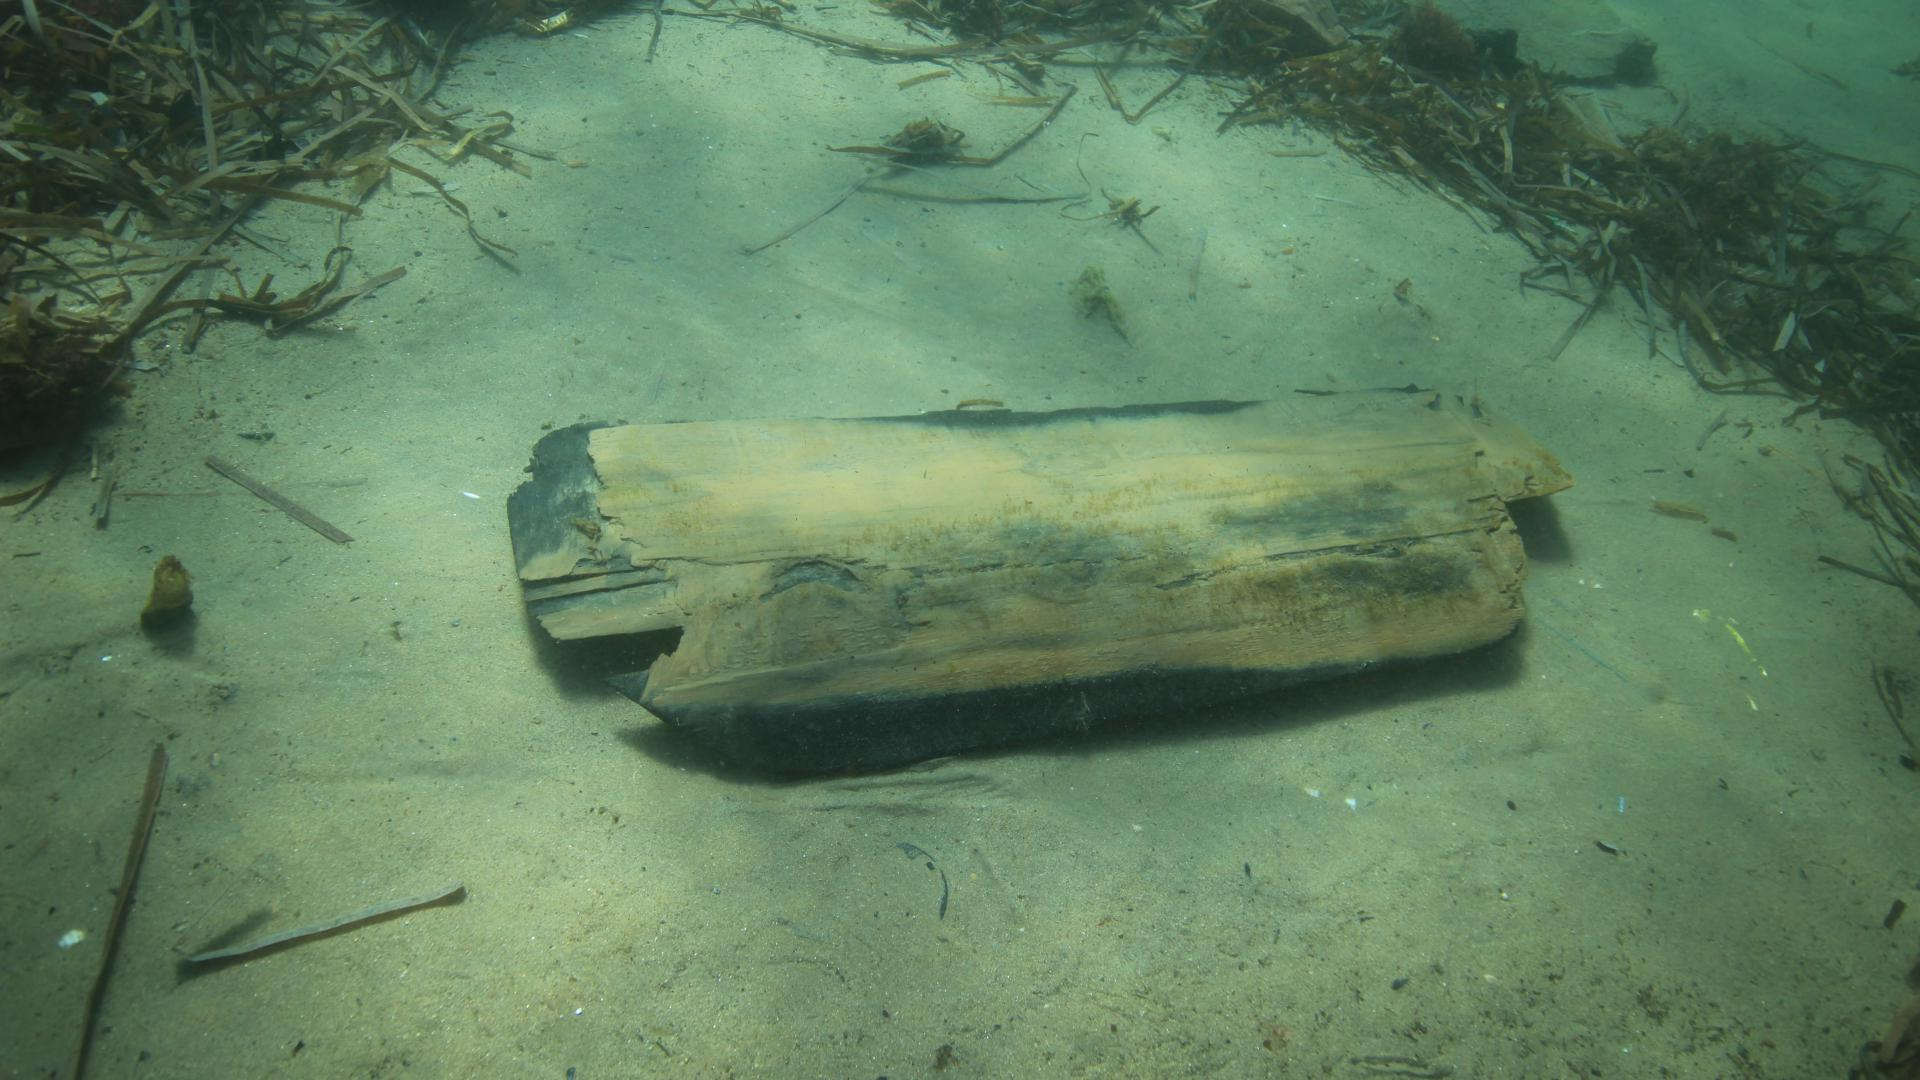wood: (506, 386, 1575, 777)
